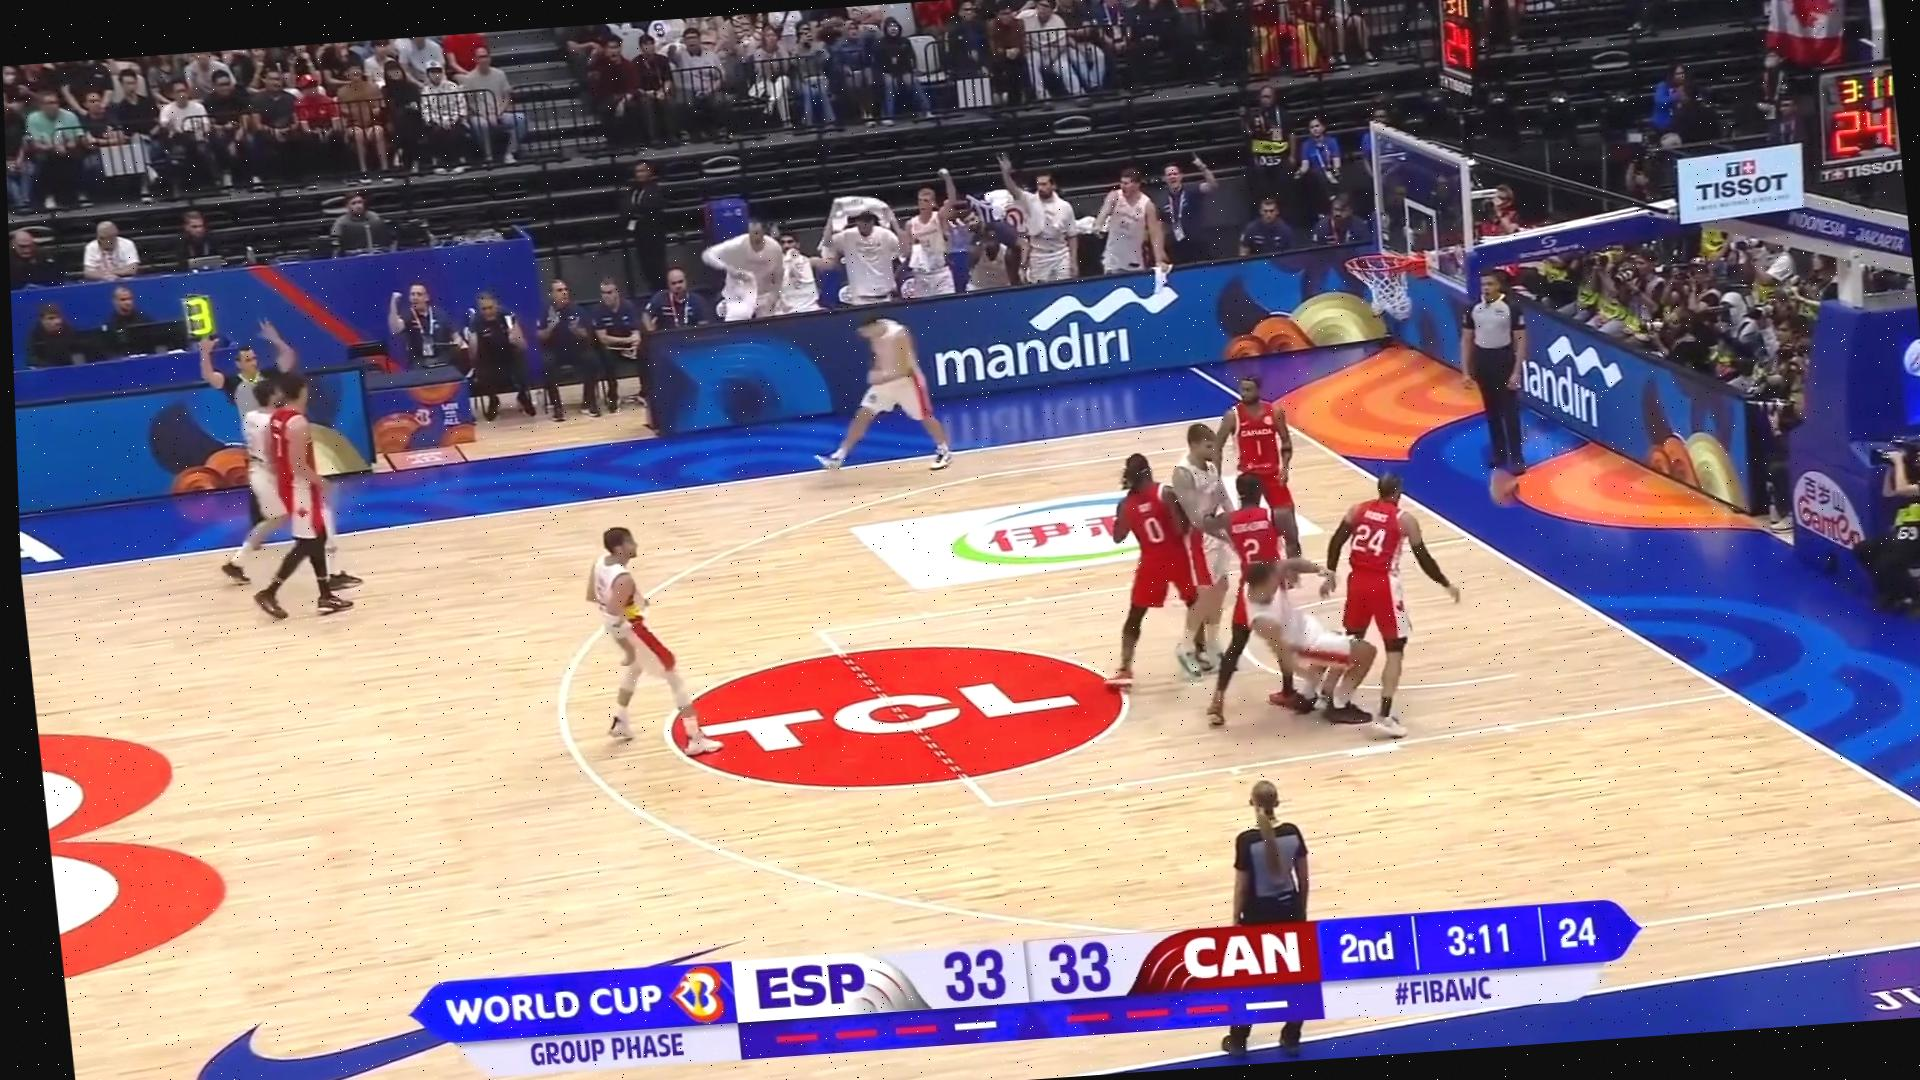foul: (1195, 472, 1465, 729)
